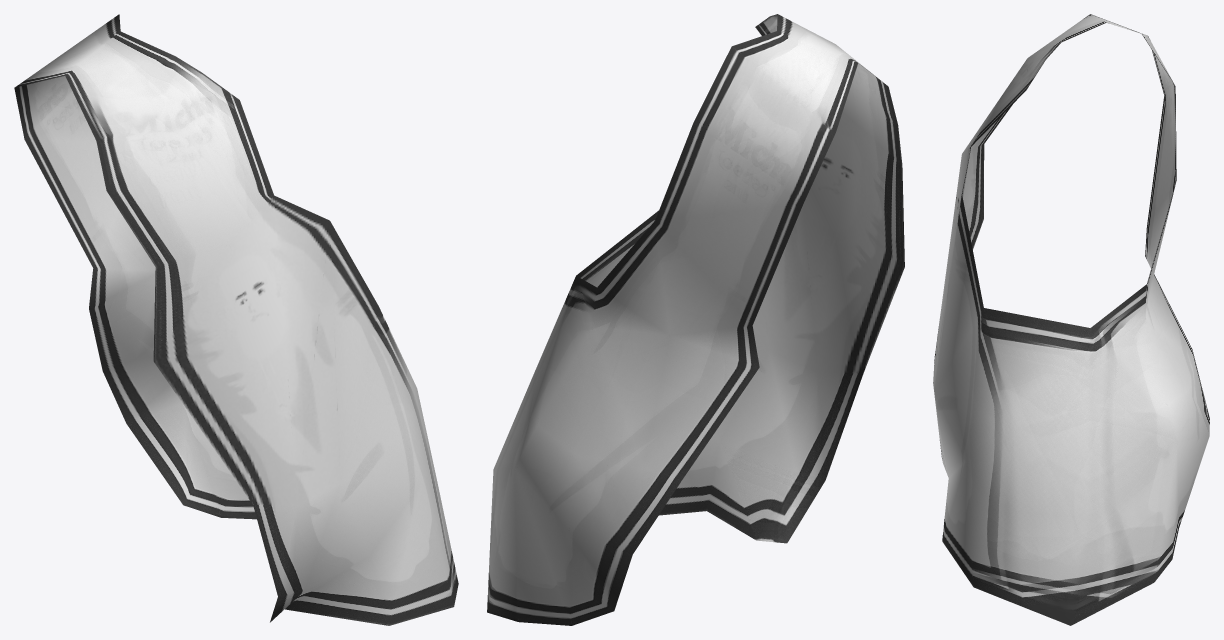
File: Sash.glb
3 renders of one model, left to right at view 1: azimuth 30°, elevation 25°; view 2: azimuth 150°, elevation 25°; view 3: azimuth 270°, elevation 25°, orthographic. The views are drawn at different scales.
Parts seen in each view (by area): view 1: Sash; view 2: Sash; view 3: Sash.
Boxes of the visible parts, left/top/right/bottom form: Sash: left=14, top=14, right=458, bottom=625; Sash: left=487, top=14, right=904, bottom=625; Sash: left=933, top=14, right=1209, bottom=625.
Size of the model in its own units: 5.91 by 9.28 by 4.75.
Materials: 1 (1 with a texture image).
